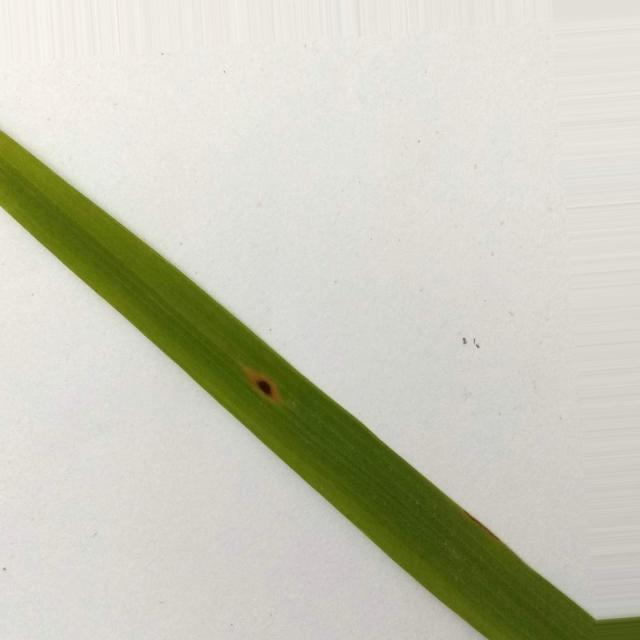Brown_Spot: (249, 370, 280, 402)
